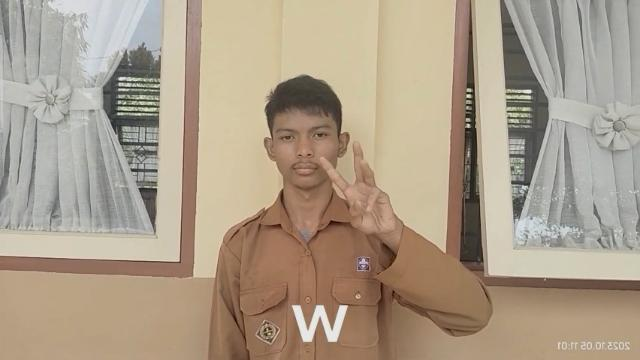W: (319, 140, 395, 242)
